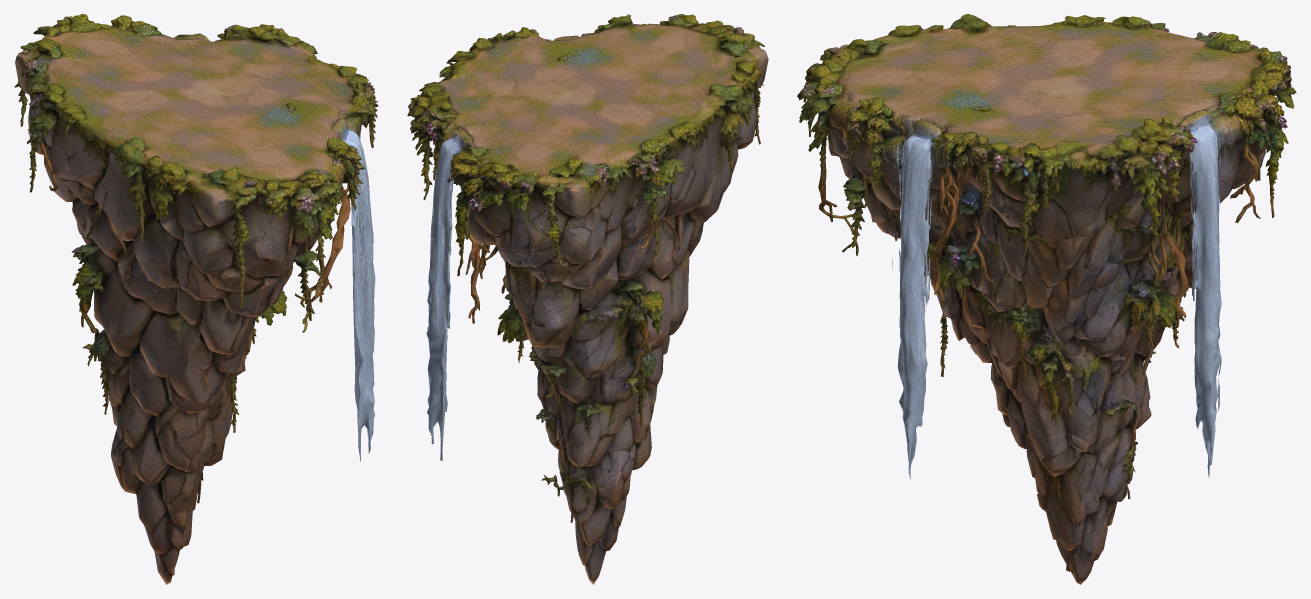
Rendered from prop_island.glb.
3 renders of one model, left to right at view 1: azimuth 30°, elevation 25°; view 2: azimuth 150°, elevation 25°; view 3: azimuth 270°, elevation 25°, orthographic. The views are drawn at different scales.
Visible parts, largest first — view 1: tripo_node_41179965-2080-4b76-bf36-b6ce36cda46a; view 2: tripo_node_41179965-2080-4b76-bf36-b6ce36cda46a; view 3: tripo_node_41179965-2080-4b76-bf36-b6ce36cda46a.
Boxes of the visible parts, <box> form: tripo_node_41179965-2080-4b76-bf36-b6ce36cda46a: <box>14,14,378,584</box>; tripo_node_41179965-2080-4b76-bf36-b6ce36cda46a: <box>407,14,768,584</box>; tripo_node_41179965-2080-4b76-bf36-b6ce36cda46a: <box>797,14,1296,584</box>.
Size of the model in its own units: 0.586 by 0.9805 by 0.8437.
Materials: 1 (1 with a texture image).
